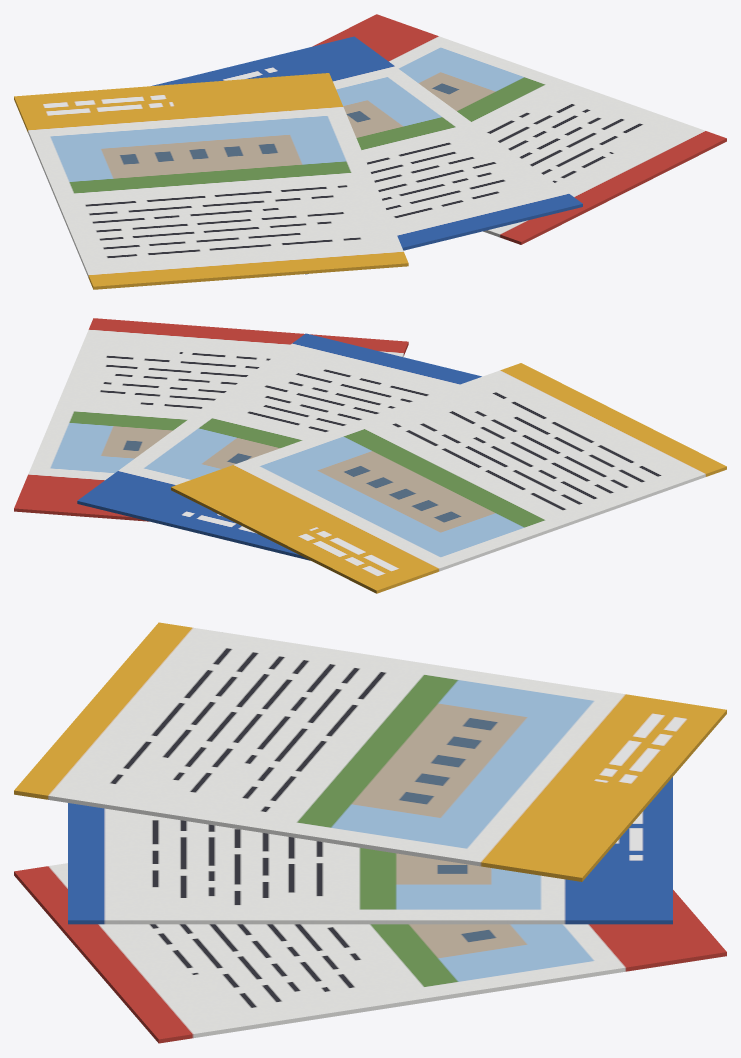
The model's file is escena.casa.folletos_estudios.fbx.
The picture shows the model from 3 angles, top to bottom: view 1: azimuth 30°, elevation 25°; view 2: azimuth 150°, elevation 25°; view 3: azimuth 270°, elevation 25°; orthographic projection. The views are drawn at different scales.
Visible parts, largest first — view 1: Folleto.002, Folleto, Folleto.001; view 2: Folleto.002, Folleto.001, Folleto; view 3: Folleto.002, Folleto, Folleto.001.
Part boxes in pixels (left/top/right/bottom): Folleto.002: left=14, top=73, right=408, bottom=289; Folleto: left=312, top=14, right=726, bottom=244; Folleto.001: left=151, top=36, right=582, bottom=274; Folleto.002: left=171, top=363, right=726, bottom=593; Folleto.001: left=77, top=333, right=481, bottom=560; Folleto: left=14, top=318, right=408, bottom=521; Folleto.002: left=14, top=622, right=726, bottom=881; Folleto: left=14, top=863, right=726, bottom=1043; Folleto.001: left=68, top=777, right=672, bottom=924.
Size of the model in its own units: 0.32 by 0.0045 by 0.2358.
Materials: 3 (3 with a texture image).
